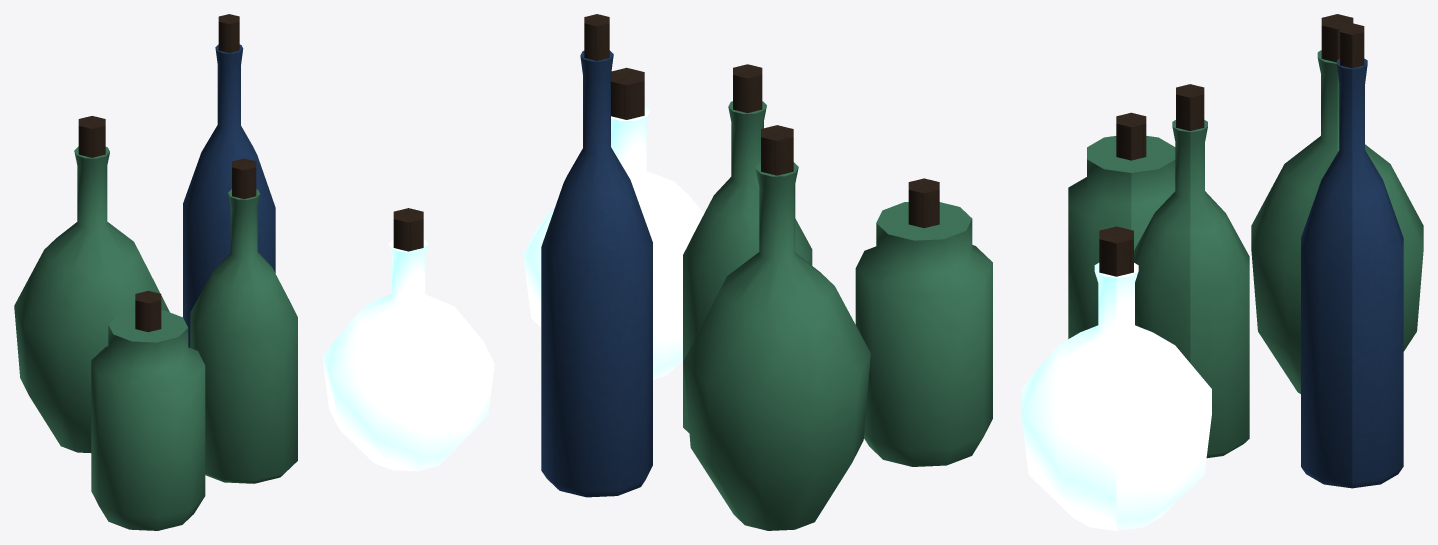
Rendered from bottles.glb.
3 renders of one model, left to right at view 1: azimuth 30°, elevation 25°; view 2: azimuth 150°, elevation 25°; view 3: azimuth 270°, elevation 25°, orthographic. The views are drawn at different scales.
Visible parts, largest first — view 1: bottles; view 2: bottles; view 3: bottles.
Boxes of the visible parts, box(x1,y1,x2,y2) form: bottles: box(14, 14, 494, 530); bottles: box(523, 14, 992, 530); bottles: box(1021, 14, 1423, 530).
Size of the model in its own units: 0.3431 by 0.3287 by 0.2732.
1 material, 1 textured.
